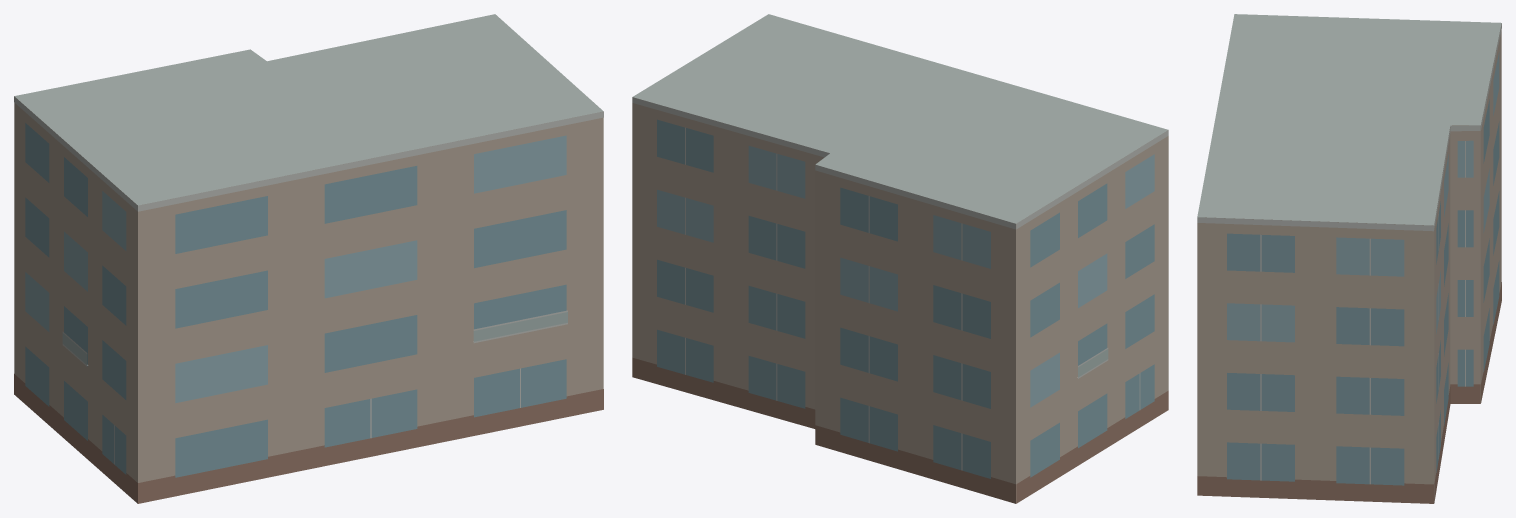
Rendered from survey-upis-32826894.glb.
The picture shows the model from 3 angles, left to right: view 1: azimuth 30°, elevation 25°; view 2: azimuth 150°, elevation 25°; view 3: azimuth 270°, elevation 25°; orthographic projection. The views are drawn at different scales.
Visible parts, largest first — view 1: survey-upis-32826894.tmp; view 2: survey-upis-32826894.tmp; view 3: survey-upis-32826894.tmp.
Part boxes in pixels (x1,y1,x2,y2): survey-upis-32826894.tmp: (14, 14, 603, 503); survey-upis-32826894.tmp: (632, 14, 1168, 503); survey-upis-32826894.tmp: (1197, 14, 1501, 503).
Size of the model in its own units: 19.31 by 11.85 by 11.76.
